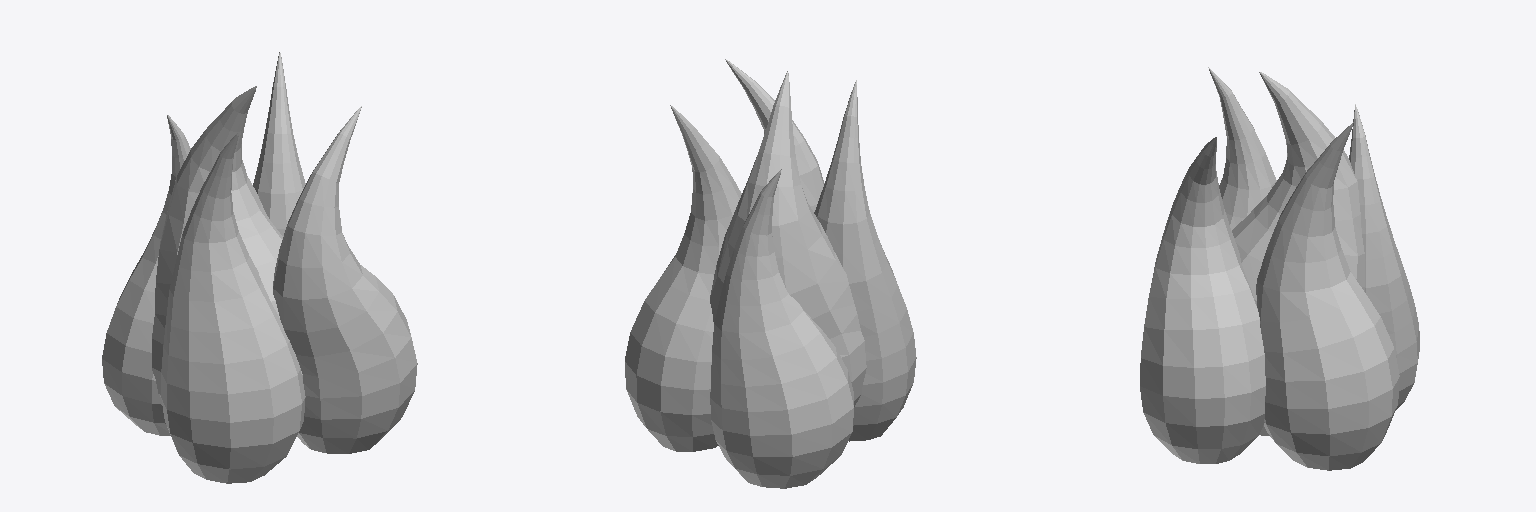
The model's file is fire_000012.obj.
The picture shows the model from 3 angles: view 1: azimuth 30°, elevation 25°; view 2: azimuth 150°, elevation 25°; view 3: azimuth 270°, elevation 25°; orthographic projection.
Visible parts, largest first — view 1: flame_NurbsPath.015; view 2: flame_NurbsPath.015; view 3: flame_NurbsPath.015.
Boxes of the visible parts, x1=… form: flame_NurbsPath.015: x1=102, y1=52, x2=417, y2=483; flame_NurbsPath.015: x1=625, y1=59, x2=916, y2=488; flame_NurbsPath.015: x1=1140, y1=67, x2=1419, y2=470.
Size of the model in its own units: 0.7548 by 1.13 by 0.8001.